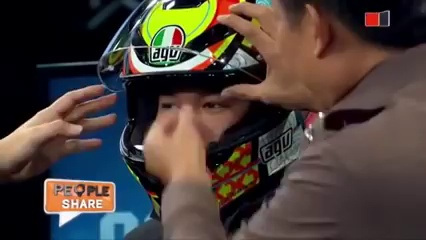helmet: (97, 2, 283, 199)
